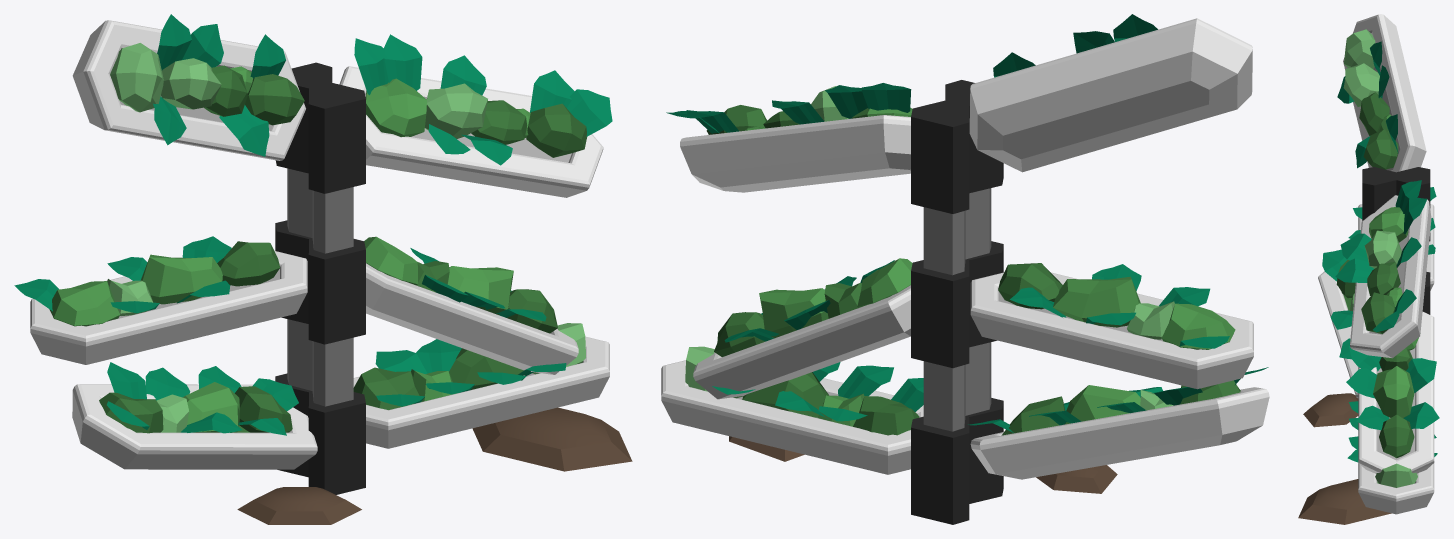
The model's file is Destroyed_plant_farm_003.fbx.
3 views of the same model, side by side, from view 1: azimuth 30°, elevation 25°; view 2: azimuth 150°, elevation 25°; view 3: azimuth 270°, elevation 25° (orthographic). The views are drawn at different scales.
Visible parts, largest first — view 1: polySurface2804, polySurface2764, polySurface2779, polySurface2805, polySurface2790, polySurface2823, polySurface2806, pCylinder10, polySurface2756, polySurface2822, polySurface2757, polySurface2778 (+43 smaller); view 2: polySurface2790, polySurface2764, polySurface2805, polySurface2804, polySurface2779, polySurface2823, polySurface2806, polySurface2822, polySurface2756, polySurface2757, polySurface2778, polySurface2791 (+21 smaller); view 3: polySurface2805, polySurface2790, polySurface2823, polySurface2779, pCylinder10, polySurface2806, polySurface2765, pCylinder9, polySurface2764, polySurface2759, polySurface2820, polySurface2774 (+32 smaller).
Boxes of the visible parts, x1,y1,x2,y2 form: polySurface2804: (30, 251, 307, 364); polySurface2764: (72, 384, 317, 469); polySurface2779: (353, 336, 609, 448); polySurface2805: (339, 66, 603, 197); polySurface2790: (72, 20, 305, 160); polySurface2823: (366, 263, 578, 374); polySurface2806: (275, 62, 365, 193); pCylinder10: (472, 407, 632, 471); polySurface2756: (275, 220, 365, 344); polySurface2822: (275, 373, 365, 494); polySurface2757: (287, 319, 353, 406); polySurface2778: (287, 168, 353, 253); polySurface2790: (969, 18, 1252, 172); polySurface2764: (970, 387, 1269, 479); polySurface2805: (680, 115, 910, 192); polySurface2804: (970, 272, 1253, 389); polySurface2779: (661, 360, 923, 474); polySurface2823: (693, 285, 910, 399); polySurface2806: (911, 80, 1003, 213); polySurface2822: (911, 398, 1003, 524); polySurface2756: (911, 241, 1003, 368); polySurface2757: (923, 342, 991, 431); polySurface2778: (923, 188, 991, 275); polySurface2791: (1053, 276, 1140, 327); polySurface2805: (1350, 195, 1431, 358); polySurface2790: (1343, 14, 1426, 172); polySurface2823: (1358, 312, 1434, 473); polySurface2779: (1358, 463, 1434, 514); pCylinder10: (1298, 479, 1391, 524); polySurface2806: (1362, 167, 1430, 241); polySurface2765: (1373, 366, 1414, 417); pCylinder9: (1303, 393, 1358, 427); polySurface2764: (1318, 271, 1358, 397); polySurface2759: (1379, 414, 1414, 458); polySurface2820: (1343, 63, 1379, 106); polySurface2774: (1364, 230, 1401, 268).
Size of the model in its own units: 3.34 by 2.84 by 1.03.
